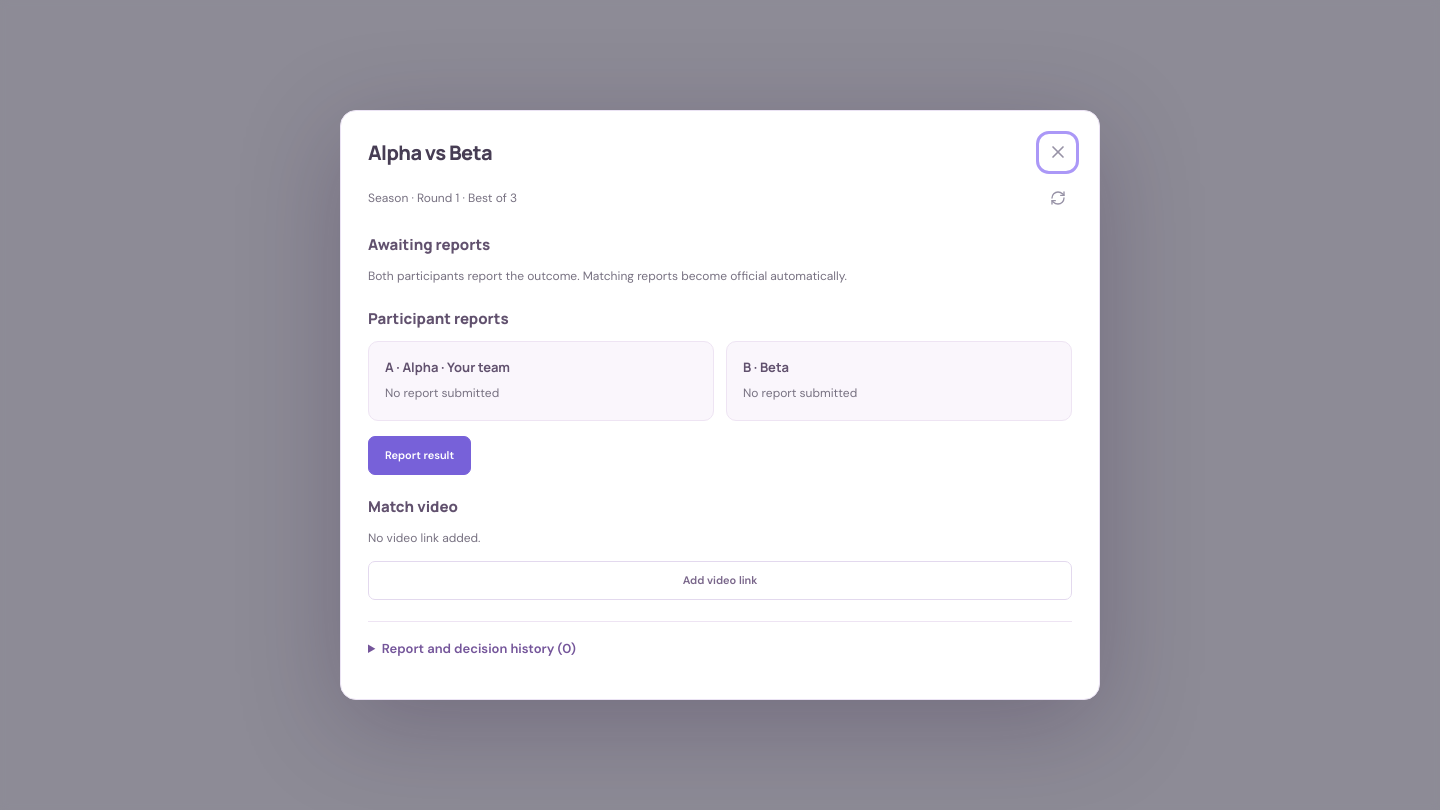
Test case: TournamentMatch › shows an interrupted write inside the dialog without replay or a duplicate refresh
Click the button "Report result" at (420, 455), box 368,436 -> 471,475
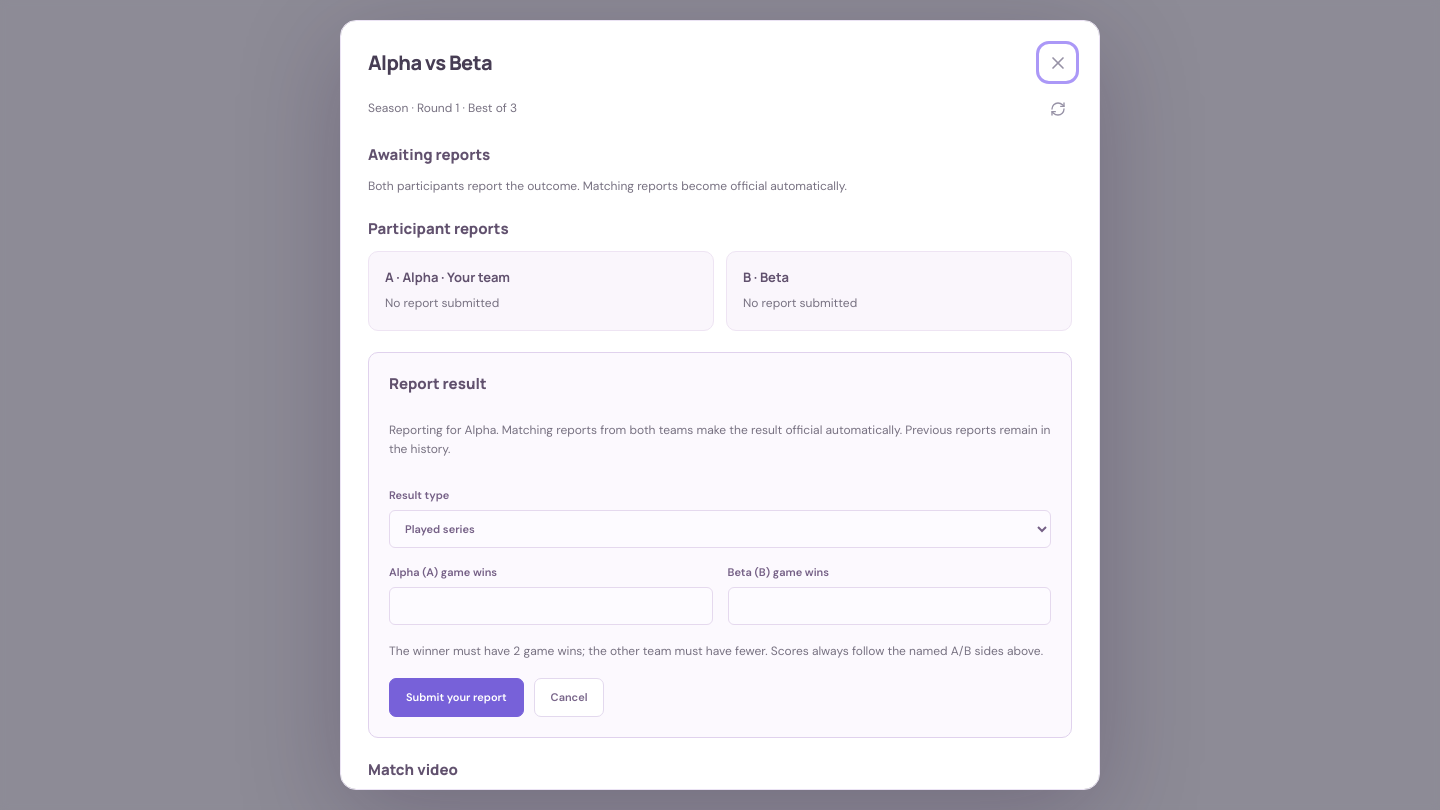
Type "2" into the number field labelled "Alpha (A) game wins" at (551, 606), box 389,587 -> 712,625
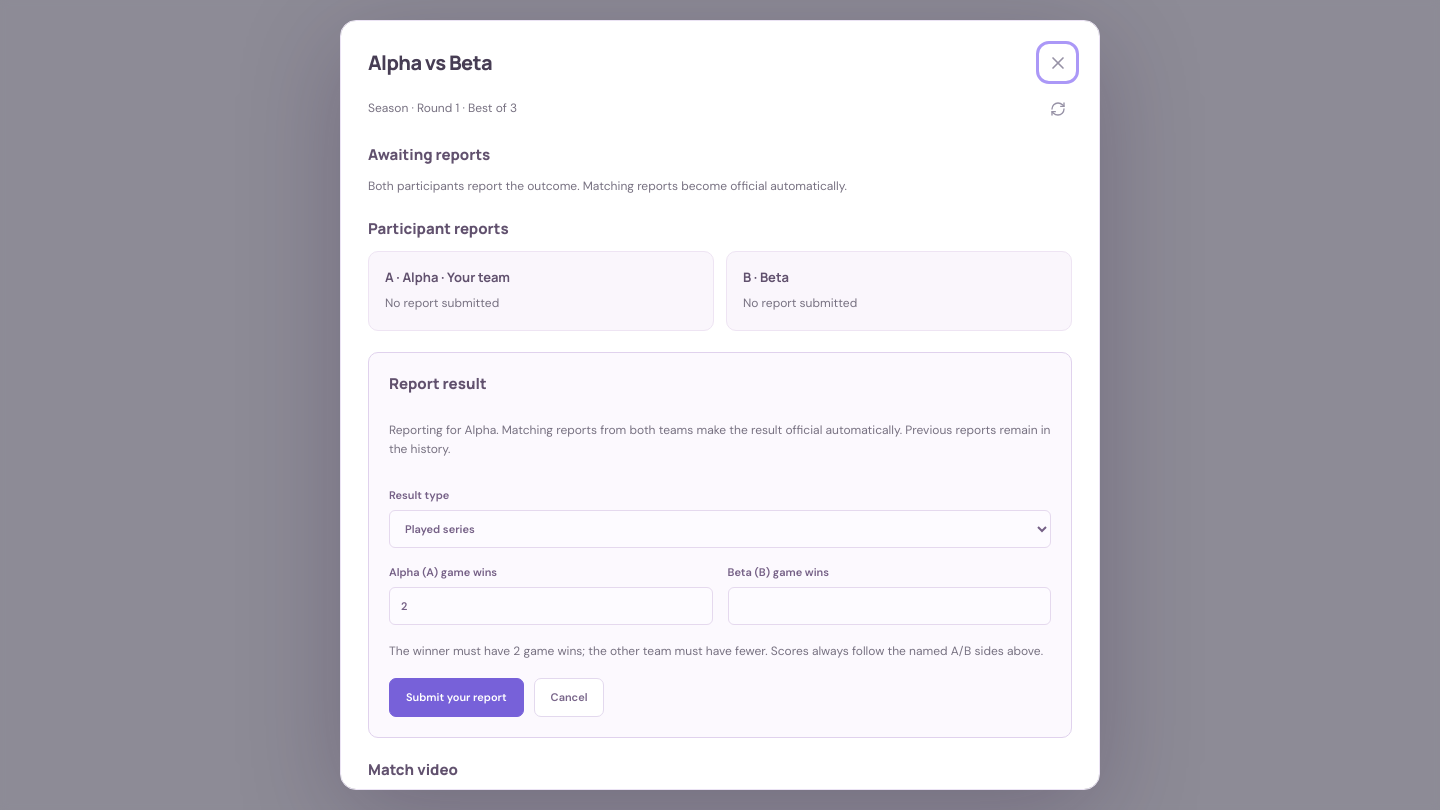
Type "1" into the number field labelled "Beta (B) game wins" at (889, 606), box 728,587 -> 1051,625
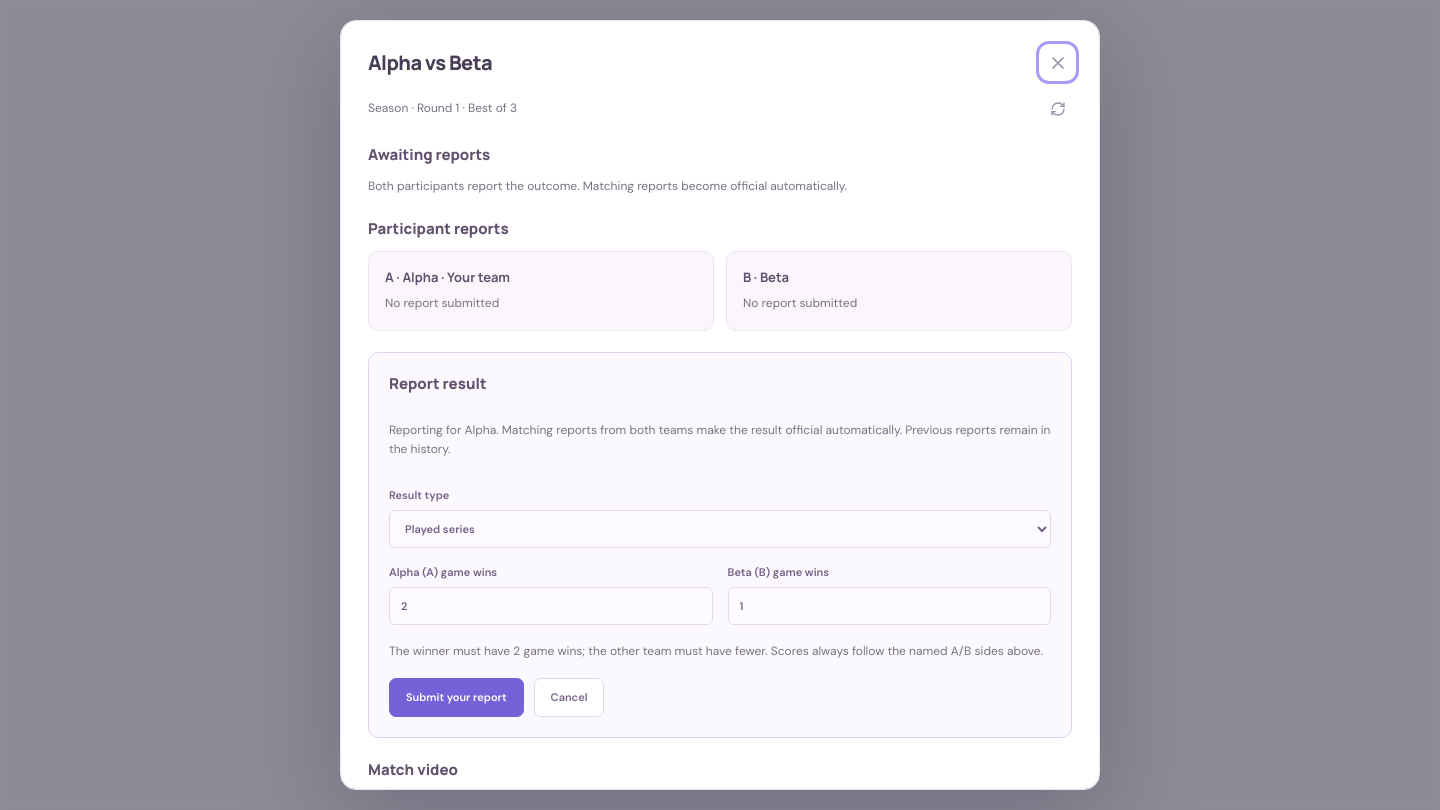
Submit the form, box 368,352 -> 1072,738
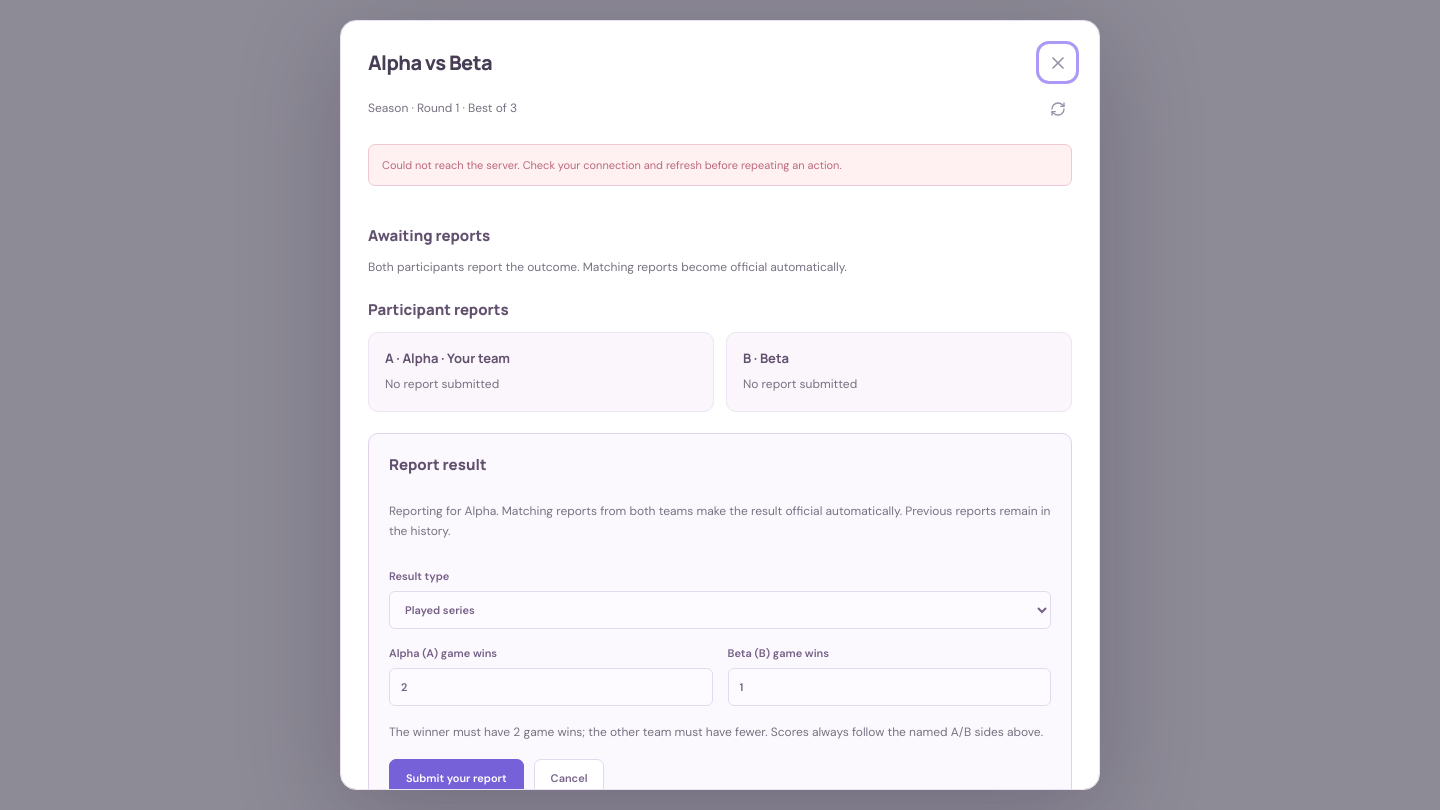
Now the text "Could not reach the server" is shown, box 382,158 -> 842,172
